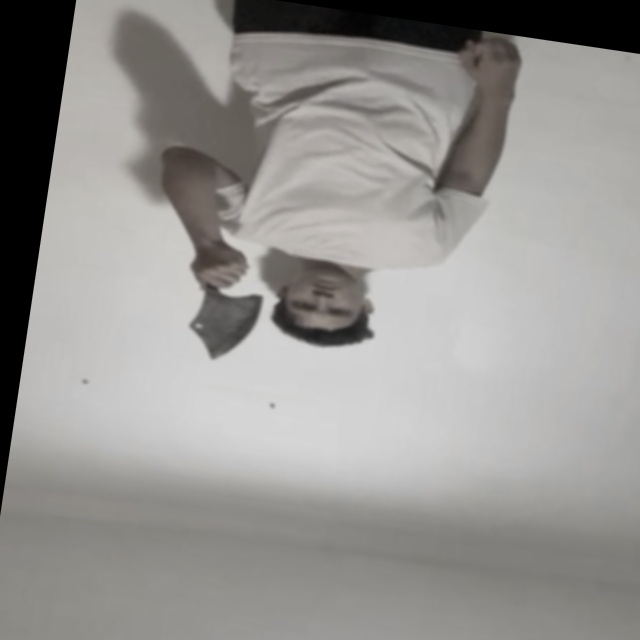Sharp-Object: (183, 283, 263, 368)
